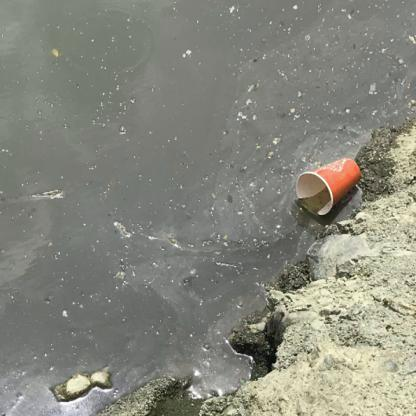Plastic: (293, 156, 367, 223)
